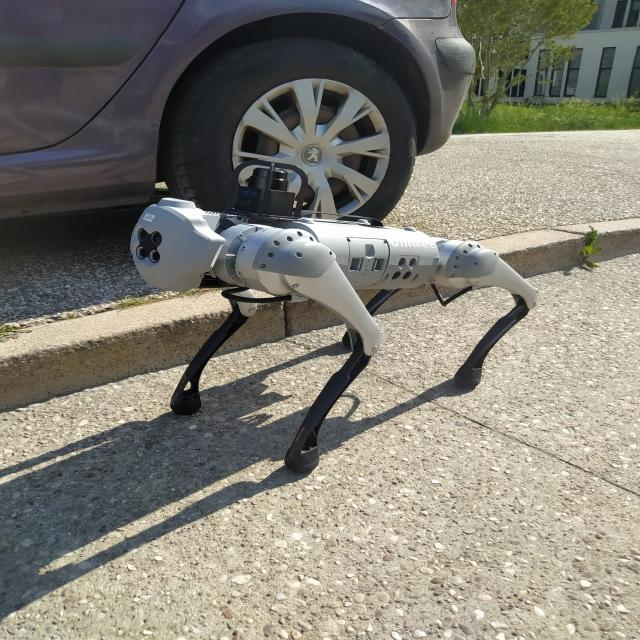unitree-go1-robot: (111, 171, 536, 489)
